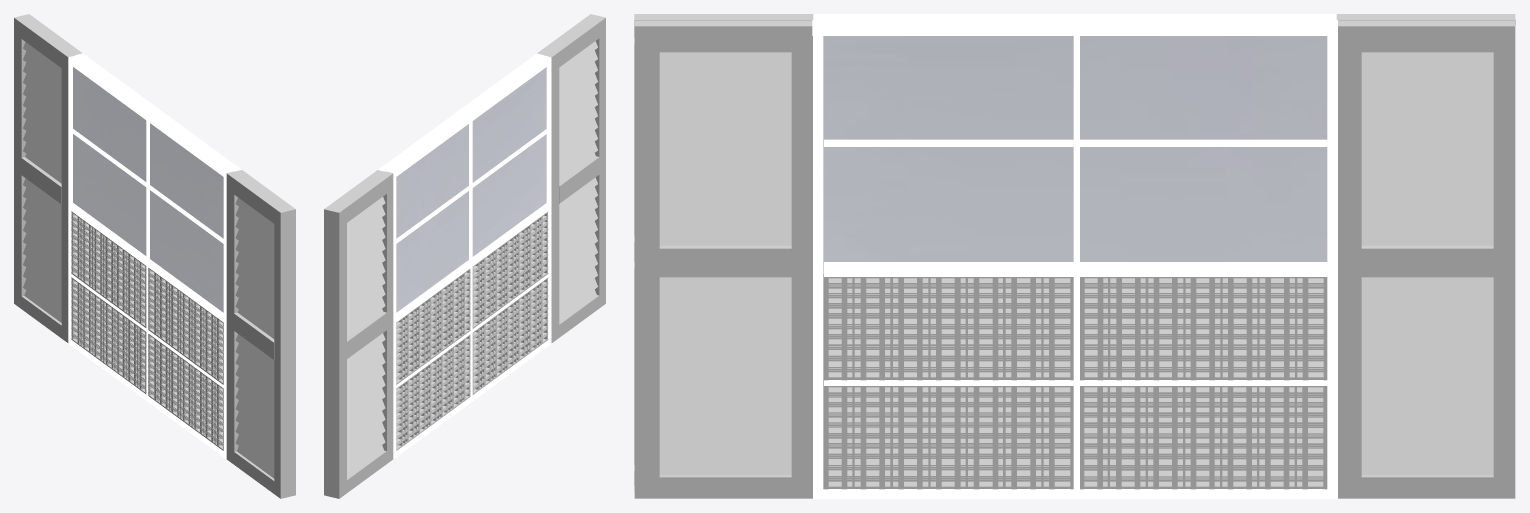
The model's file is window_with_shutters_4_grid_window.255bf862.gltf.
3 renders of one model, left to right at view 1: azimuth 30°, elevation 25°; view 2: azimuth 150°, elevation 25°; view 3: azimuth 270°, elevation 25°, orthographic. The views are drawn at different scales.
Parts seen in each view (by area): view 1: Shutters, window, shutters_inside_trims1, shutters_inside_trims2, trims, inside_trims; view 2: Shutters, window, shutters_inside_trims1, shutters_inside_trims2, trims, inside_trims; view 3: Shutters, window, shutters_inside_trims1, shutters_inside_trims2, trims, inside_trims.
Part boxes in pixels (<box>): Shutters: <box>14,14,295,498</box>; window: <box>73,67,223,312</box>; shutters_inside_trims1: <box>71,211,223,384</box>; shutters_inside_trims2: <box>71,277,223,450</box>; trims: <box>68,53,241,459</box>; inside_trims: <box>71,120,223,395</box>; Shutters: <box>324,14,605,498</box>; window: <box>396,67,546,312</box>; shutters_inside_trims1: <box>396,211,548,384</box>; shutters_inside_trims2: <box>396,277,548,450</box>; trims: <box>378,53,551,459</box>; inside_trims: <box>396,121,548,396</box>; Shutters: <box>634,14,1515,498</box>; window: <box>823,36,1327,271</box>; shutters_inside_trims1: <box>823,271,1327,384</box>; shutters_inside_trims2: <box>823,384,1327,489</box>; trims: <box>812,14,1337,498</box>; inside_trims: <box>824,36,1327,489</box>.
Size of the model in its own units: 0.2883 by 5.03 by 8.49.
Materials: 6 (1 with a texture image).
